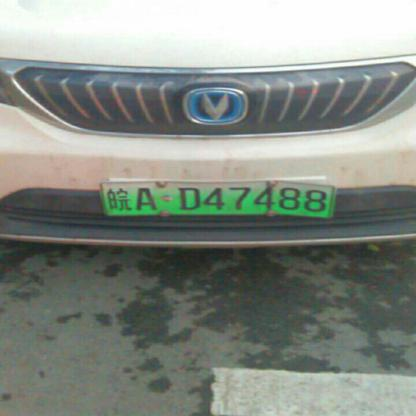lp: (102, 183, 334, 216)
